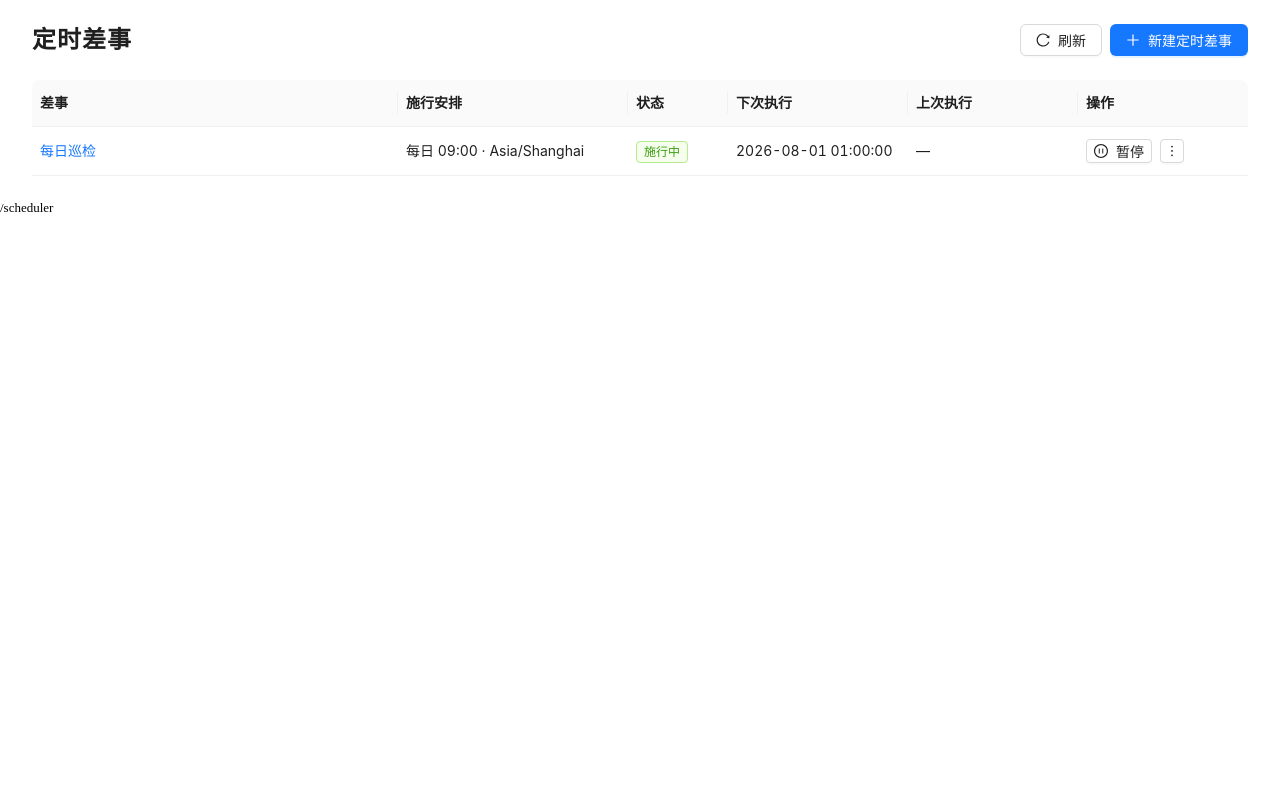
SchedulerPage › keeps a failed history load visible and lets the user retry
Click the button named "更多操作" at (1172, 151), box [1160, 139, 1184, 163]
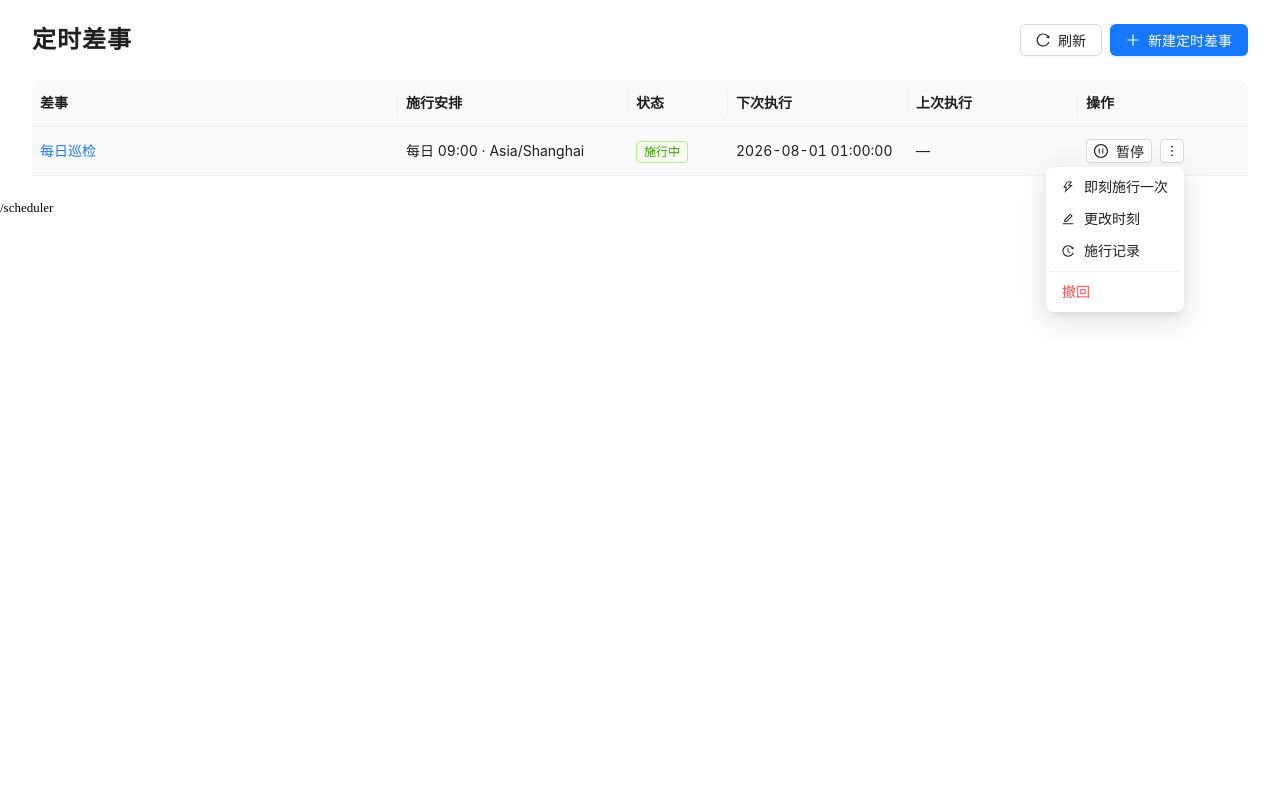
Click the menu item "施行记录" at (1101, 250), box [1062, 242, 1140, 259]
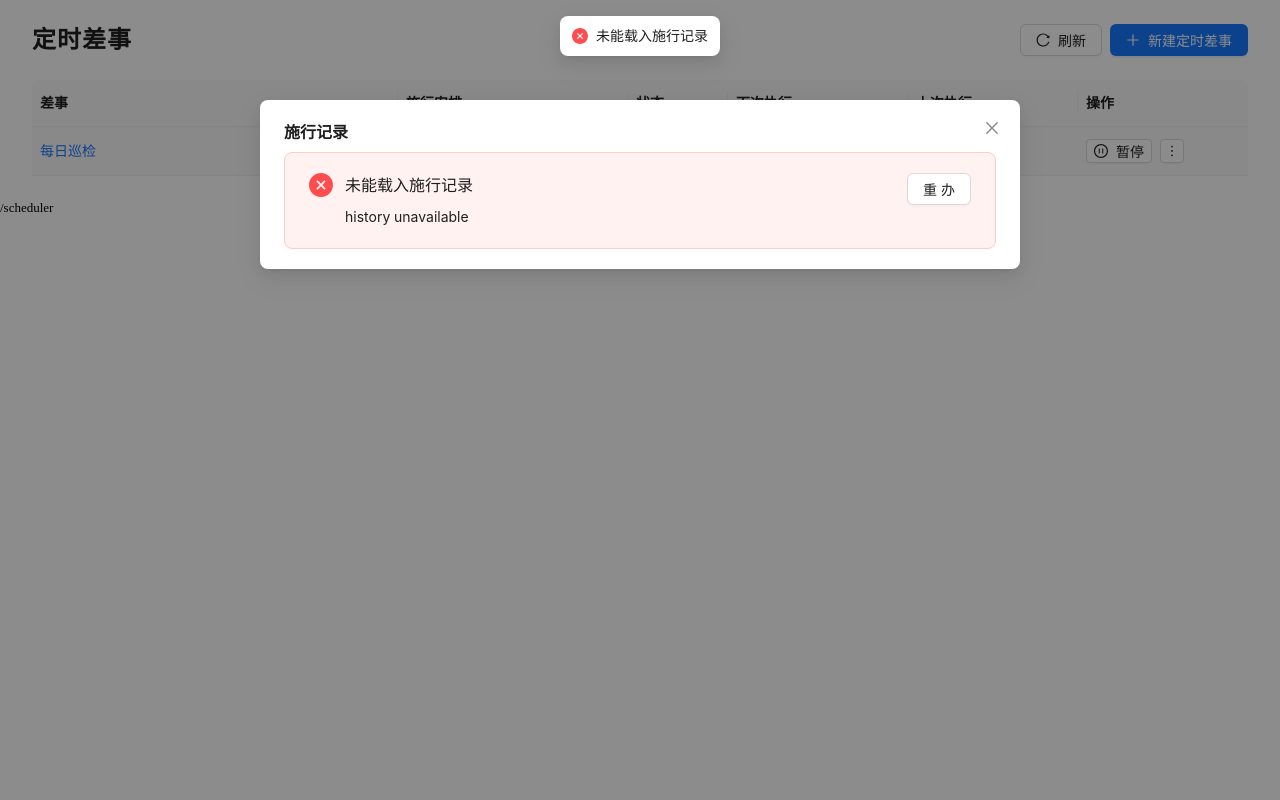
Expected: the message shows "未能载入施行记录", [345, 175, 473, 195]
Expected: the message shows "history unavailable", [345, 208, 469, 225]
Click the button "重 办" at (939, 189), box [907, 173, 971, 205]
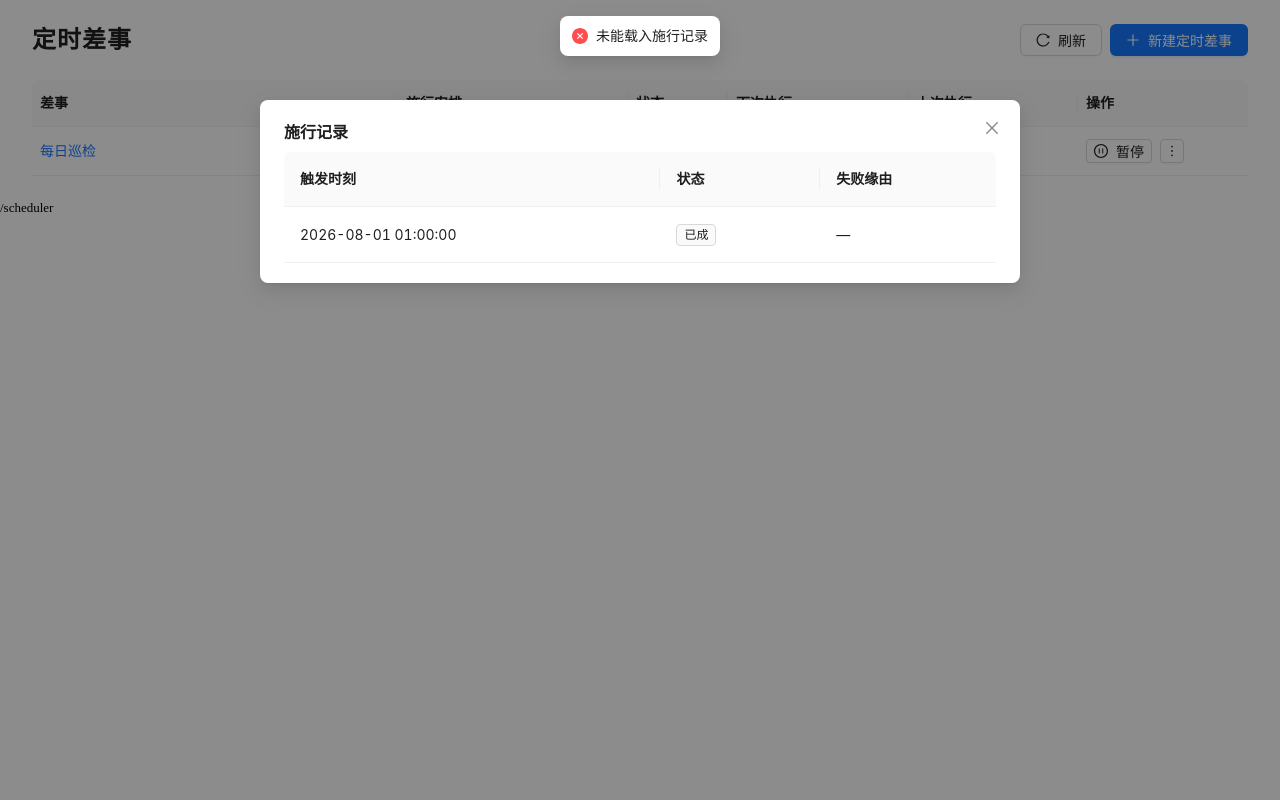
Expected: the table is shown, [284, 152, 996, 263]
Expected: the message "未能载入施行记录 history unavailable 重 办" is gone
